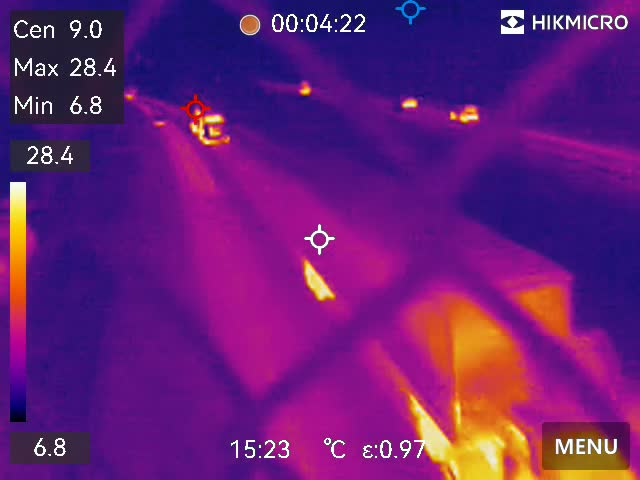heavyTruck: (290, 162, 640, 480), (185, 107, 239, 153)
